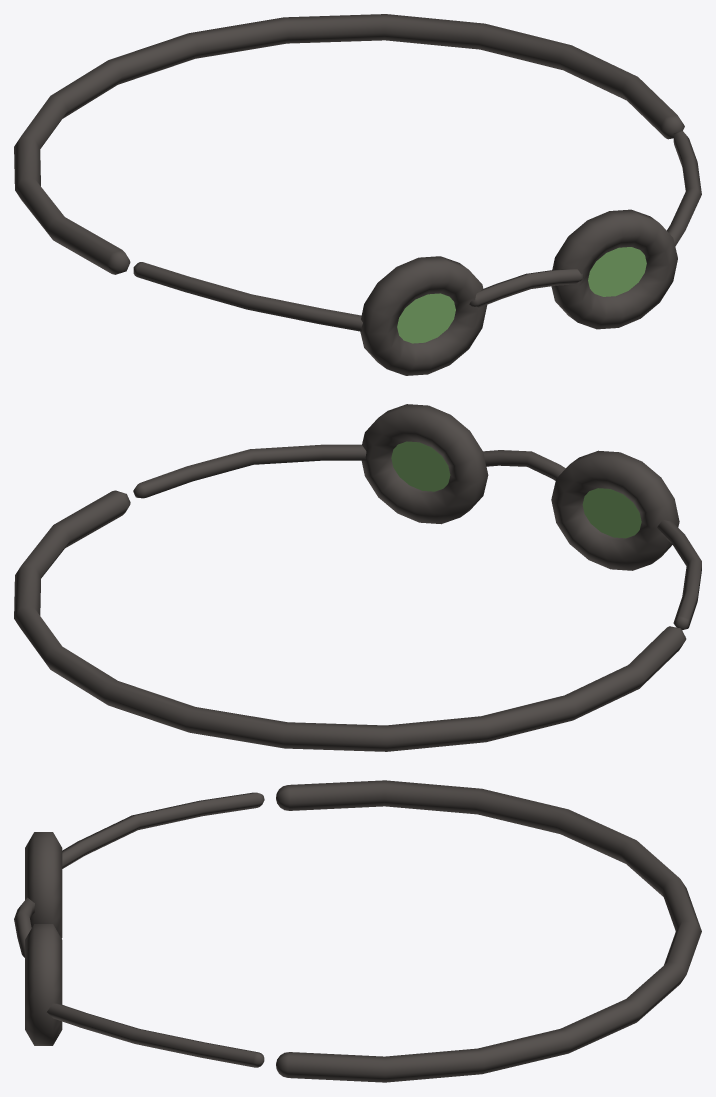
File: night_vision_goggles.glb
3 renders of one model, top to bottom at view 1: azimuth 30°, elevation 25°; view 2: azimuth 150°, elevation 25°; view 3: azimuth 270°, elevation 25°, orthographic.
Visible parts, largest first — view 1: night_vision_goggles_Head; view 2: night_vision_goggles_Head; view 3: night_vision_goggles_Head.
Boxes of the visible parts, x1,y1,x2,y2 form: night_vision_goggles_Head: (14, 14, 701, 375); night_vision_goggles_Head: (14, 404, 701, 751); night_vision_goggles_Head: (14, 780, 701, 1082).
Bounding box in the file's own units: 0.7273 × 0.1281 × 0.7361.
